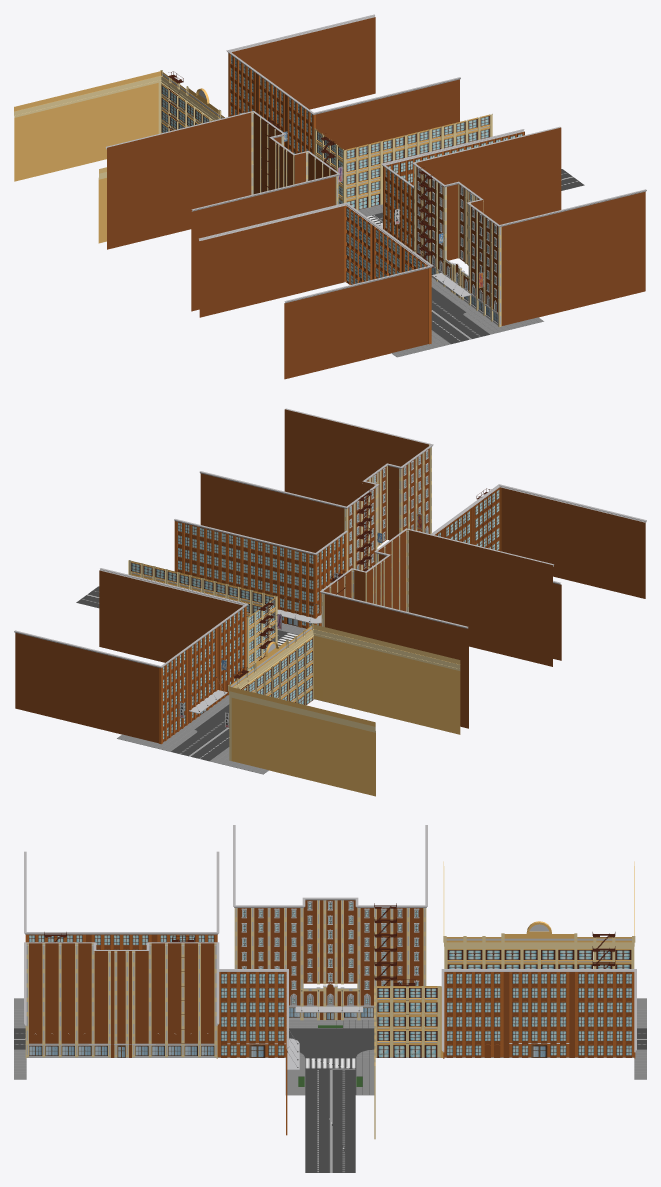
Rendered from TileCity4_3.fbx.
3 renders of one model, top to bottom at view 1: azimuth 30°, elevation 25°; view 2: azimuth 150°, elevation 25°; view 3: azimuth 270°, elevation 25°, orthographic. The views are drawn at different scales.
Parts seen in each view (by area): view 1: Sidewalk1.125, Sidewalk1.159, Sidewalk1.205, Sidewalk1.117, Sidewalk1.206, Sidewalk1.197, Sidewalk1.158, Sidewalk1.116, Sidewalk1.198, Sidewalk1.196, Sidewalk1.115, Sidewalk1.157 (+34 smaller); view 2: Sidewalk1.159, Sidewalk1.137, Sidewalk1.205, Sidewalk1.206, Sidewalk1.158, Sidewalk1.197, Sidewalk1.136, Sidewalk1.157, Sidewalk1.134, Sidewalk1.198, Sidewalk1.135, Sidewalk1.156 (+33 smaller); view 3: Road1.007, Sidewalk1.134, Sidewalk1.193, Sidewalk1.194, Sidewalk1.197, Sidewalk1.195, Sidewalk1.196, Sidewalk1.157, Sidewalk1.198, Sidewalk1.156, Sidewalk1.158, Sidewalk1.185 (+38 smaller).
Part boxes in pixels (left/top/right/bottom): Sidewalk1.125: left=199, top=205, right=431, bottom=315; Sidewalk1.159: left=228, top=17, right=459, bottom=127; Sidewalk1.205: left=107, top=124, right=338, bottom=234; Sidewalk1.117: left=199, top=218, right=431, bottom=328; Sidewalk1.206: left=107, top=112, right=338, bottom=222; Sidewalk1.197: left=414, top=140, right=645, bottom=250; Sidewalk1.158: left=228, top=30, right=459, bottom=140; Sidewalk1.116: left=199, top=230, right=431, bottom=340; Sidewalk1.198: left=414, top=127, right=645, bottom=237; Sidewalk1.196: left=414, top=153, right=645, bottom=263; Sidewalk1.115: left=199, top=243, right=431, bottom=353; Sidewalk1.157: left=228, top=42, right=459, bottom=153; Sidewalk1.159: left=15, top=570, right=246, bottom=680; Sidewalk1.137: left=229, top=635, right=460, bottom=745; Sidewalk1.205: left=321, top=542, right=552, bottom=652; Sidewalk1.206: left=321, top=529, right=552, bottom=639; Sidewalk1.158: left=15, top=583, right=246, bottom=693; Sidewalk1.197: left=200, top=422, right=431, bottom=531; Sidewalk1.136: left=229, top=648, right=460, bottom=758; Sidewalk1.157: left=15, top=596, right=246, bottom=706; Sidewalk1.134: left=228, top=623, right=460, bottom=732; Sidewalk1.198: left=200, top=409, right=431, bottom=519; Sidewalk1.135: left=229, top=661, right=460, bottom=770; Sidewalk1.156: left=15, top=608, right=246, bottom=718; Road1.007: left=305, top=1069, right=355, bottom=1172; Sidewalk1.134: left=443, top=861, right=635, bottom=948; Sidewalk1.193: left=25, top=1014, right=217, bottom=1036; Sidewalk1.194: left=26, top=1000, right=216, bottom=1022; Sidewalk1.197: left=26, top=957, right=216, bottom=979; Sidewalk1.195: left=26, top=986, right=216, bottom=1008; Sidewalk1.196: left=26, top=971, right=216, bottom=993; Sidewalk1.157: left=444, top=1000, right=634, bottom=1014; Sidewalk1.198: left=26, top=943, right=216, bottom=965; Sidewalk1.156: left=444, top=1014, right=634, bottom=1029; Sidewalk1.158: left=444, top=986, right=634, bottom=1000; Sidewalk1.185: left=234, top=926, right=426, bottom=948.
Size of the model in its own units: 17420 by 4130 by 20000.
